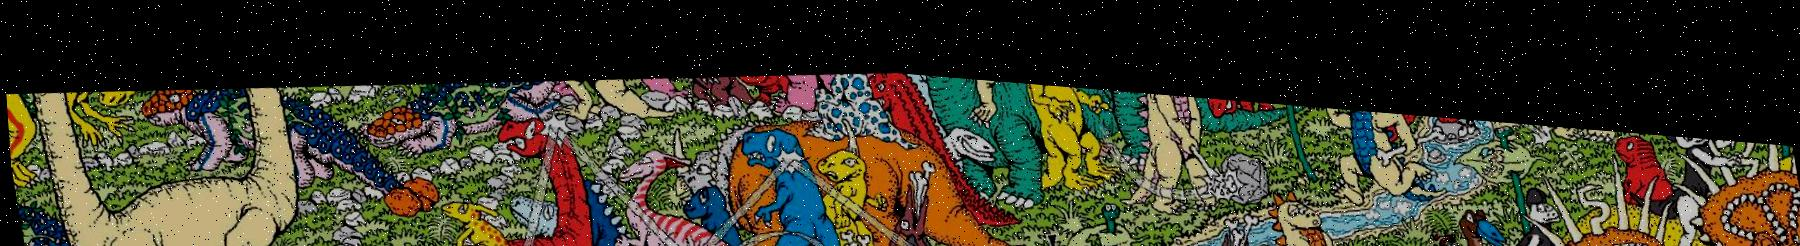waldo: (1429, 205, 1460, 239)
